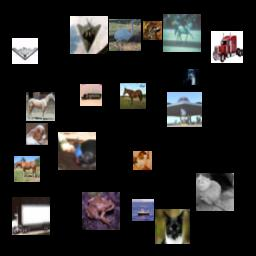airplane: (70, 16, 108, 54), (167, 92, 202, 127), (12, 38, 38, 64)
bird: (58, 132, 96, 170), (109, 19, 141, 51), (183, 69, 199, 85)
cat: (196, 173, 234, 211), (155, 209, 190, 244)
dog: (26, 123, 48, 145), (133, 151, 152, 170)
frog: (82, 192, 120, 230), (143, 21, 162, 40)
ship: (132, 199, 154, 221)
truck: (12, 197, 50, 235), (211, 31, 243, 63), (80, 84, 102, 106)
